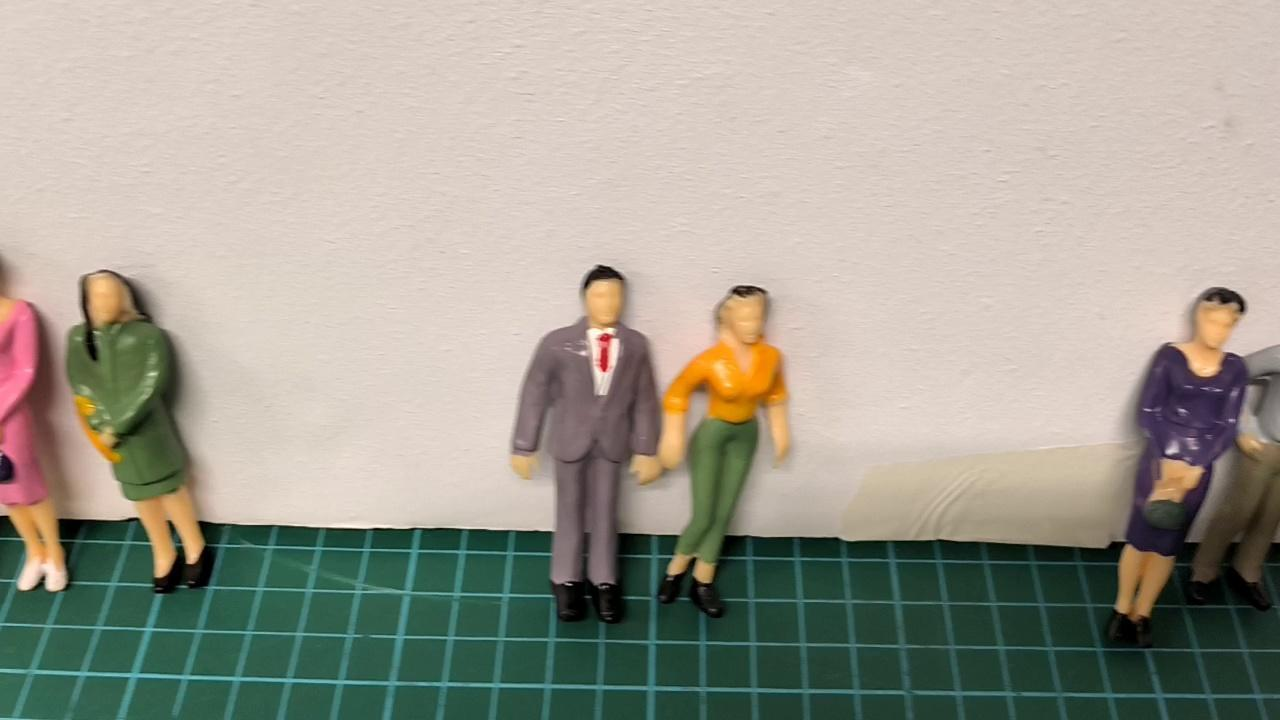human: (1098, 288, 1249, 653), (507, 263, 658, 619), (64, 266, 218, 597), (657, 290, 792, 617), (1188, 329, 1280, 608), (2, 247, 61, 593)
